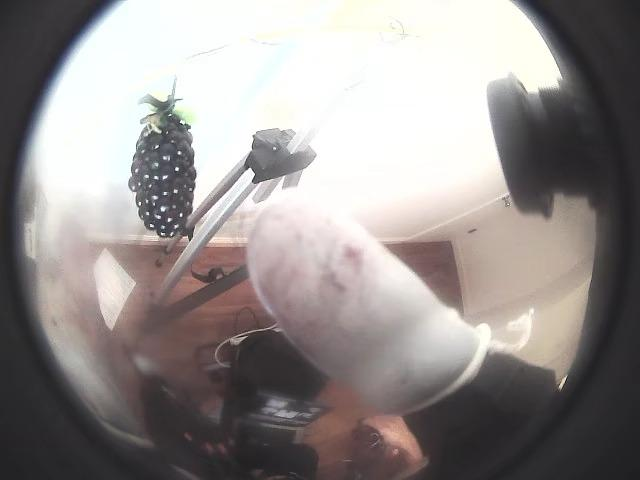berry: (128, 80, 196, 237)
gripper: (247, 189, 489, 413), (35, 210, 143, 441)
lense: (460, 0, 639, 479), (0, 0, 153, 479)
